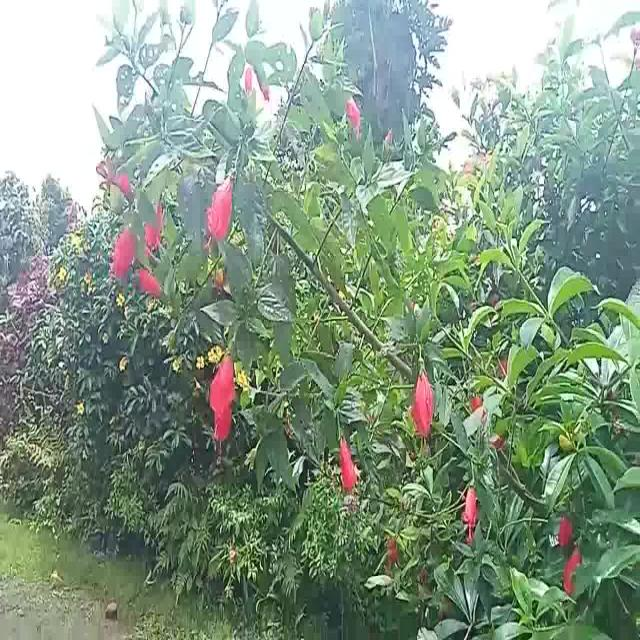Flower: (209, 349, 237, 444), (206, 170, 236, 247), (413, 358, 435, 446), (112, 215, 136, 280), (335, 432, 358, 497), (566, 540, 582, 601), (464, 483, 478, 545), (344, 92, 362, 137)
